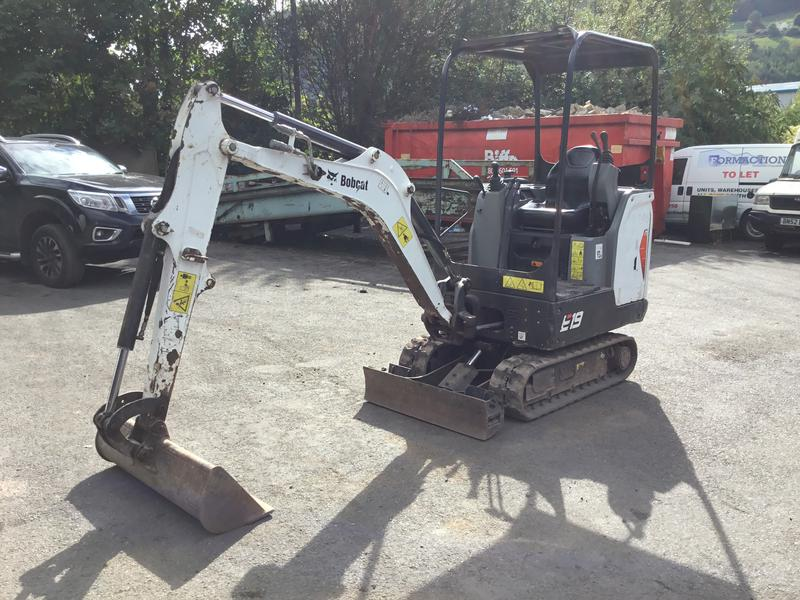shovel: (89, 26, 664, 539)
